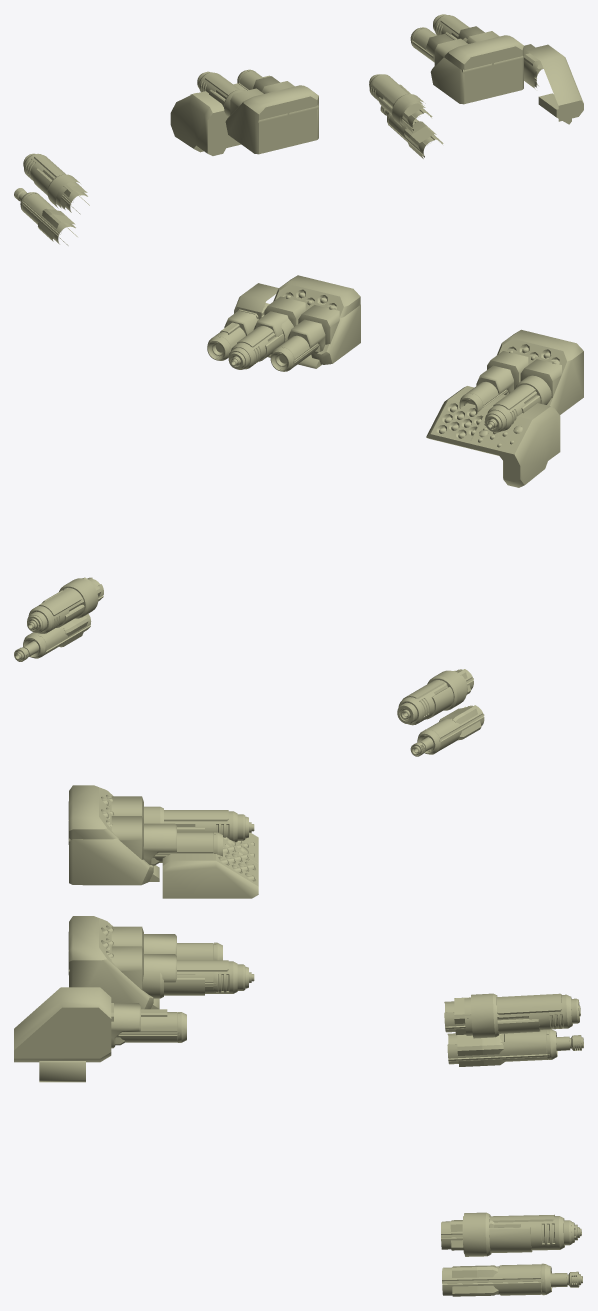
The model's file is KingcrabWeapons.glb.
3 views of the same model, one above another, from view 1: azimuth 30°, elevation 25°; view 2: azimuth 150°, elevation 25°; view 3: azimuth 270°, elevation 25° (orthographic). The views are drawn at different scales.
Parts seen in each view (by area): view 1: Torso_Left_MH1_Missile10, Torso_Right_MH1_Missile10, Torso_Right_MH1_Missile5, Torso_Right_EH3_Flamer, Torso_Left_MH2_Missile10, Forearm_Left_BH1_AC20, Forearm_Right_BH1_AC20, Torso_Right_EH2_PPC, Torso_Left_MH1_Missile15, Torso_Left_MH2_Missile5, Torso_Left_BH1_AC20, Forearm_Left_EH2_PPC (+14 smaller); view 2: Torso_Left_MH2_Missile10, Torso_Left_MH1_Missile10, Torso_Right_EH2_PPC, Forearm_Left_BH1_AC20, Forearm_Right_BH1_AC20, Torso_Left_MH2_Missile15, Torso_Left_EH1_PPC, Torso_Left_BH1_AC20, Torso_Right_BH1_AC20, Torso_Right_MH1_Missile10, Torso_Right_MH1_Missile5, Torso_Right_EH3_PPC (+8 smaller); view 3: Torso_Right_EH3_Flamer, Torso_Left_MH2_Missile10, Forearm_Left_BH1_AC20, Forearm_Right_BH1_AC20, Torso_Right_MH1_Missile10, Torso_Left_MH1_Missile5, Torso_Right_BH1_AC20, Torso_Right_EH3_PPC, Forearm_Right_EH2_PPC, Torso_Left_BH1_AC20, Forearm_Left_EH2_PPC, Torso_Left_EH1_PPC (+10 smaller).
Boxes of the visible parts, box(x1,y1,x2,y2) form: Torso_Left_MH1_Missile10: box(225, 85, 317, 154); Torso_Right_MH1_Missile10: box(458, 35, 523, 103); Torso_Right_MH1_Missile5: box(430, 56, 519, 104); Torso_Right_EH3_Flamer: box(524, 44, 583, 123); Torso_Left_MH2_Missile10: box(170, 76, 268, 153); Forearm_Left_BH1_AC20: box(23, 153, 80, 208); Forearm_Right_BH1_AC20: box(369, 74, 425, 126); Torso_Right_EH2_PPC: box(410, 27, 491, 74); Torso_Left_MH1_Missile15: box(253, 85, 318, 154); Torso_Left_MH2_Missile5: box(190, 93, 240, 155); Torso_Left_BH1_AC20: box(197, 71, 245, 117); Forearm_Left_EH2_PPC: box(20, 192, 77, 245); Torso_Left_MH2_Missile10: box(426, 386, 560, 484); Torso_Left_MH1_Missile10: box(499, 331, 583, 414); Torso_Right_EH2_PPC: box(270, 305, 339, 371); Forearm_Left_BH1_AC20: box(397, 670, 466, 725); Forearm_Right_BH1_AC20: box(27, 578, 98, 633); Torso_Left_MH2_Missile15: box(427, 386, 538, 464); Torso_Left_EH1_PPC: box(459, 352, 528, 414); Torso_Left_BH1_AC20: box(485, 375, 551, 432); Torso_Right_BH1_AC20: box(228, 298, 302, 369); Torso_Right_MH1_Missile10: box(273, 275, 352, 364); Torso_Right_MH1_Missile5: box(290, 297, 360, 364); Torso_Right_EH3_PPC: box(207, 303, 269, 360); Torso_Right_EH3_Flamer: box(14, 987, 167, 1080); Torso_Left_MH2_Missile10: box(162, 843, 258, 898); Forearm_Left_BH1_AC20: box(471, 993, 579, 1038); Forearm_Right_BH1_AC20: box(463, 1212, 572, 1256); Torso_Right_MH1_Missile10: box(69, 916, 153, 1009); Torso_Left_MH1_Missile5: box(69, 800, 153, 885); Torso_Right_BH1_AC20: box(111, 947, 245, 998); Torso_Right_EH3_PPC: box(14, 1003, 186, 1082); Forearm_Right_EH2_PPC: box(442, 1263, 552, 1295); Torso_Left_BH1_AC20: box(144, 806, 245, 842); Forearm_Left_EH2_PPC: box(447, 1029, 557, 1064); Torso_Left_EH1_PPC: box(143, 823, 222, 869).
Bounding box in the file's own units: 2.06 × 1.21 × 2.
